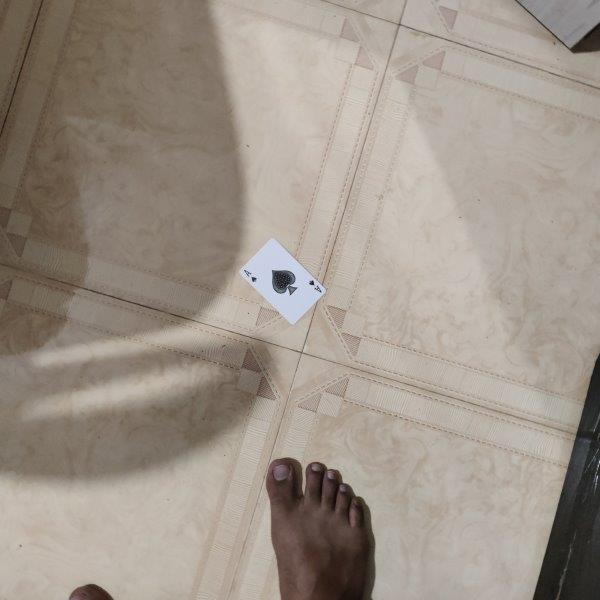Ace of Spades: (238, 238, 329, 327)
